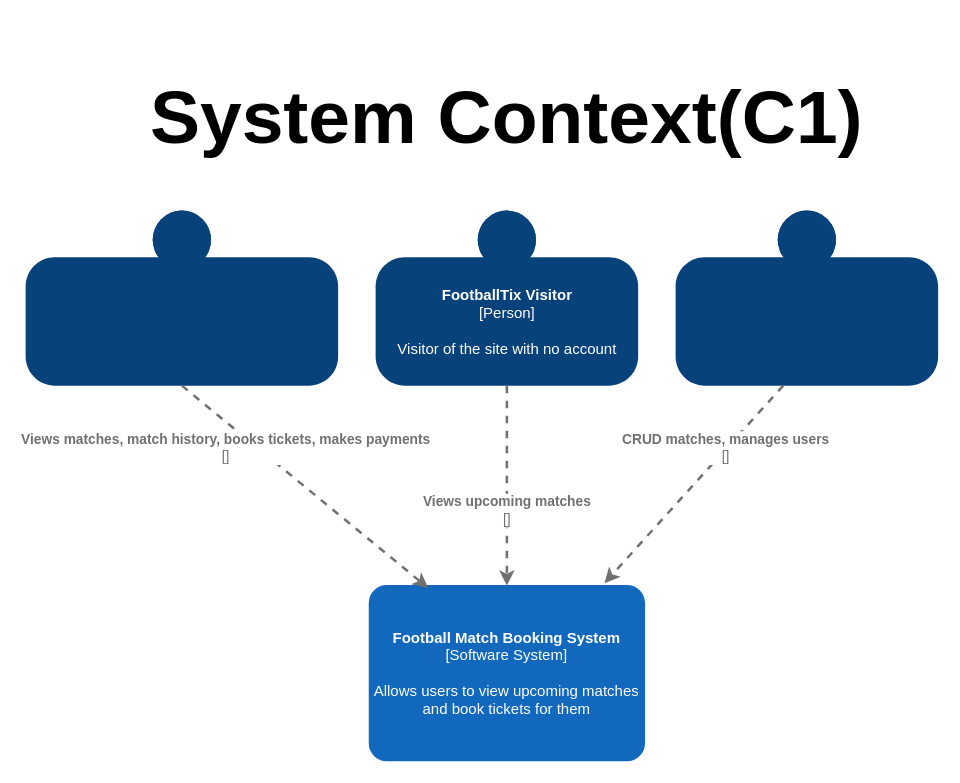
Some shapes in this 960 by 783 pixel diagram are drawn without their labels. The centre of each missing label's shape, as x and y in pixels:
"FootballTix Administrator [Person] Administrator with full privileges" goes at (806,297).
"FootballTix User [Person] Registered user with personal account" goes at (181,297).
